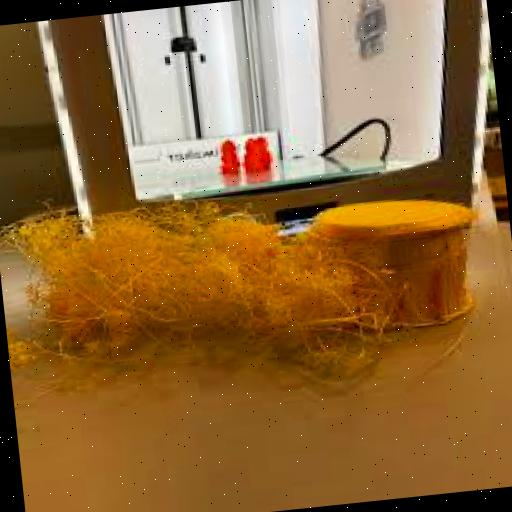spaghetti: (72, 204, 386, 392)
